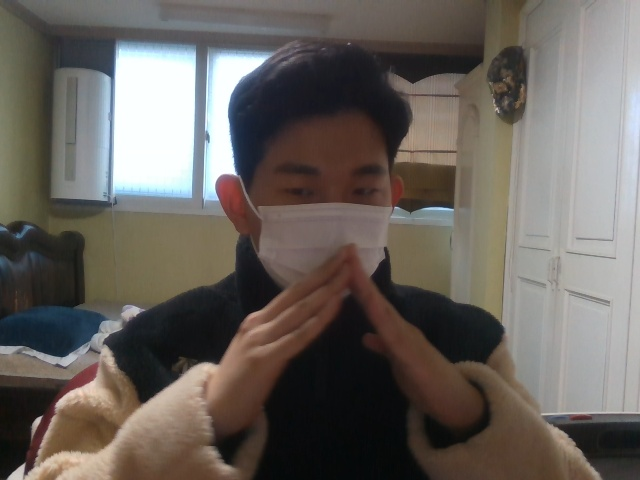HOME: (204, 243, 476, 423)
